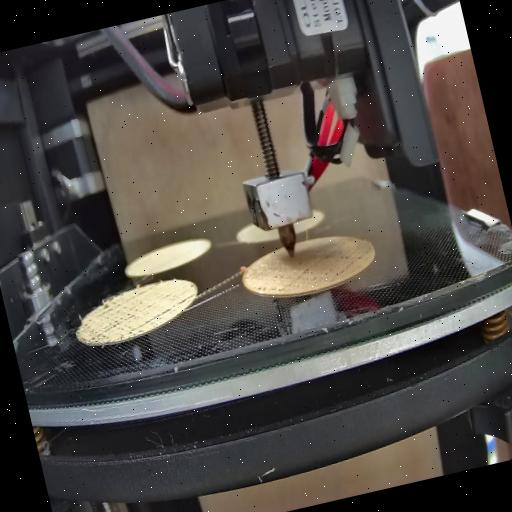under_extrusion: (252, 253, 370, 301), (84, 292, 176, 346), (173, 288, 197, 312)
